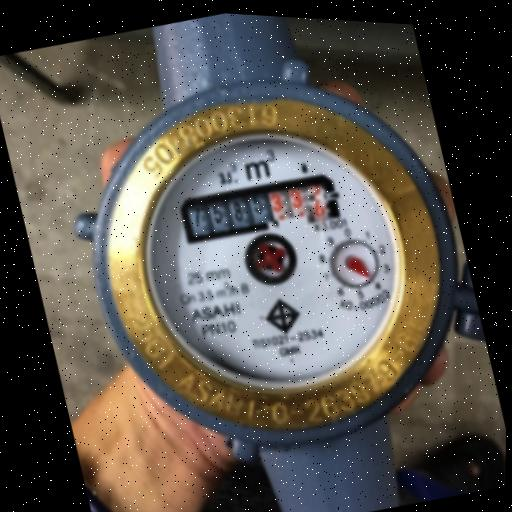3: (286, 186, 309, 218), (267, 190, 288, 222)
5: (206, 200, 229, 234), (247, 192, 269, 225)
6: (306, 181, 332, 223)
7: (186, 204, 210, 238)
8: (227, 197, 249, 230)
border_water_meter_number: (178, 162, 343, 256)
